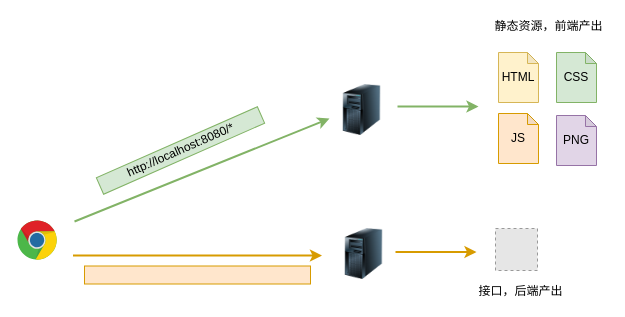
This 625x317 diagram has some shape labels left out. Grey dashed boxes stand in for pictures. The box of each missing label's shape, as (x1, y1, x2, y2) in pixels:
http://study.duyiedu.com/api/*: (84, 265, 310, 284)
开发服务器: (335, 84, 386, 135)
